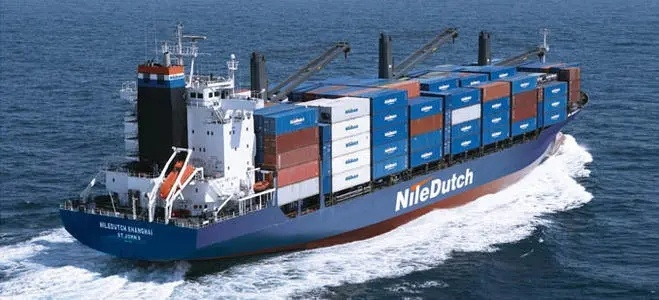Cargoship: (57, 16, 590, 257)
